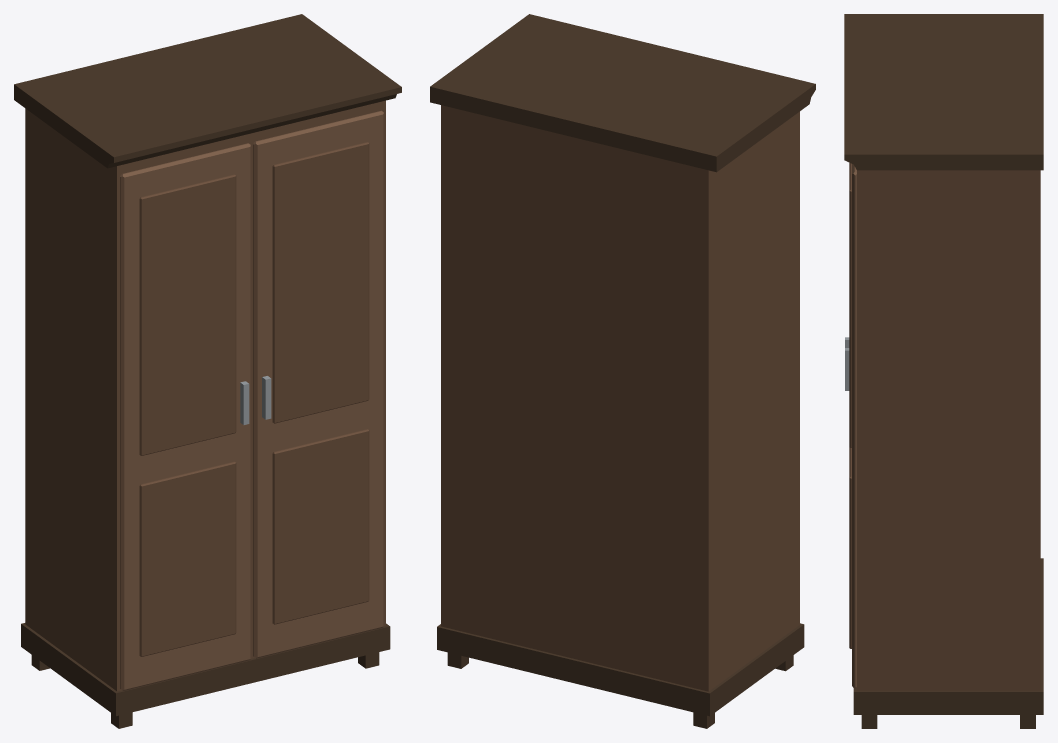
The model's file is armoire.glb.
3 views of the same model, side by side, from view 1: azimuth 30°, elevation 25°; view 2: azimuth 150°, elevation 25°; view 3: azimuth 270°, elevation 25° (orthographic).
Parts seen in each view (by area): view 1: body, cornice, door_l, door_r, panel_top_r, panel_top_l, panel_low_r, panel_low_l, plinth, feet; view 2: body, cornice, plinth, feet; view 3: body, cornice, plinth, door_r, panel_top_r, panel_low_r, feet.
Boxes of the visible parts, left/top/right/bottom form: body: left=25, top=100, right=385, bottom=691; cornice: left=14, top=14, right=401, bottom=168; door_l: left=120, top=143, right=251, bottom=690; door_r: left=253, top=110, right=384, bottom=658; panel_top_r: left=272, top=142, right=369, bottom=423; panel_top_l: left=139, top=174, right=236, bottom=455; panel_low_r: left=272, top=429, right=369, bottom=624; panel_low_l: left=139, top=461, right=236, bottom=656; plinth: left=21, top=623, right=390, bottom=716; feet: left=31, top=652, right=379, bottom=728; body: left=441, top=105, right=799, bottom=691; cornice: left=430, top=14, right=815, bottom=172; plinth: left=437, top=623, right=804, bottom=716; feet: left=447, top=652, right=793, bottom=728; body: left=857, top=170, right=1040, bottom=690; cornice: left=844, top=14, right=1043, bottom=170; plinth: left=853, top=558, right=1043, bottom=714; door_r: left=852, top=164, right=856, bottom=688; panel_top_r: left=849, top=162, right=851, bottom=447; panel_low_r: left=849, top=447, right=851, bottom=648; feet: left=861, top=715, right=1035, bottom=728.
Bounding box in the file's own units: 1.05 × 2.03 × 0.63.
4 materials, 4 textured.
